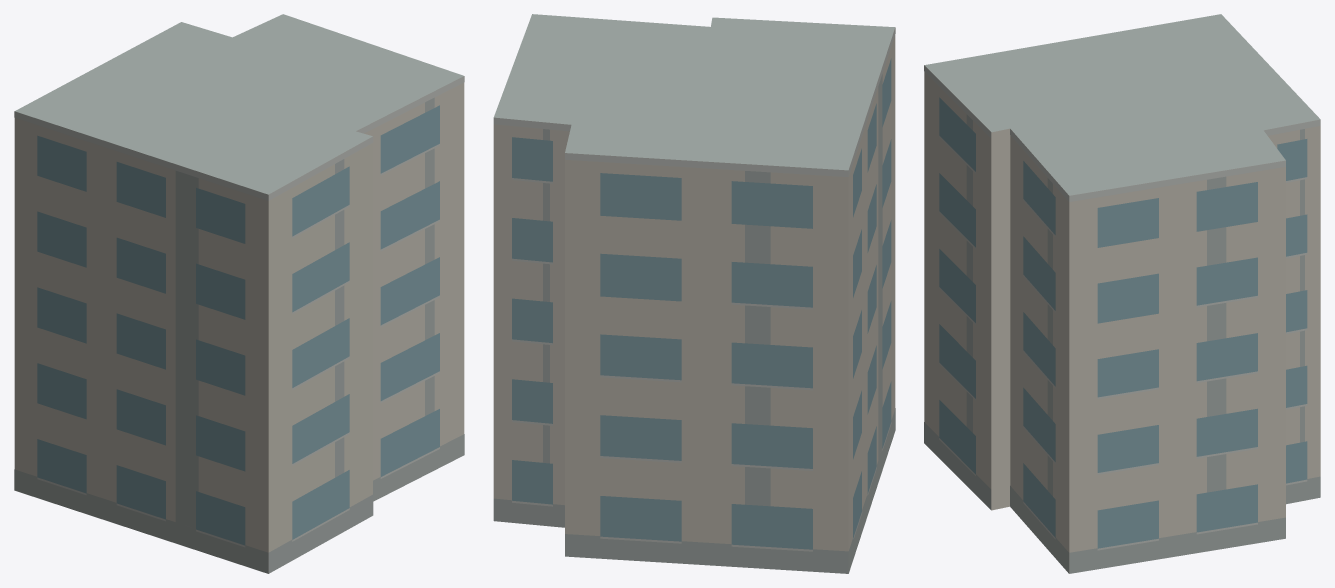
File: survey-upis-32863658.glb
The picture shows the model from 3 angles, left to right: view 1: azimuth 30°, elevation 25°; view 2: azimuth 150°, elevation 25°; view 3: azimuth 270°, elevation 25°; orthographic projection. The views are drawn at different scales.
Visible parts, largest first — view 1: survey-upis-32863658.tmp; view 2: survey-upis-32863658.tmp; view 3: survey-upis-32863658.tmp.
Boxes of the visible parts, <box> form: survey-upis-32863658.tmp: <box>14,14,464,573</box>; survey-upis-32863658.tmp: <box>493,14,895,573</box>; survey-upis-32863658.tmp: <box>924,14,1320,573</box>.
Bounding box in the file's own units: 14.96 × 14.5 × 13.79.
